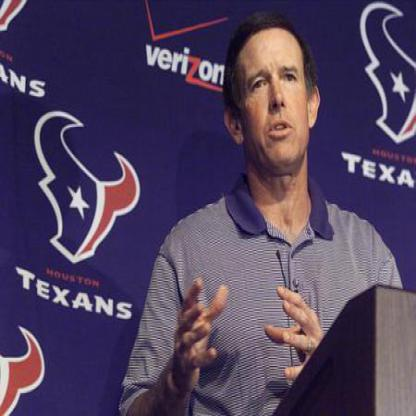face: (237, 13, 312, 177)
